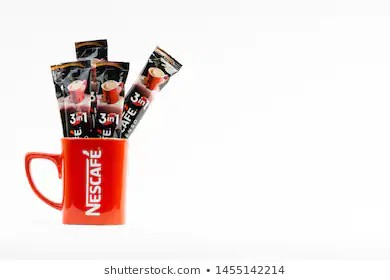nescafe-caffe: (118, 49, 187, 135), (53, 60, 93, 138), (91, 59, 129, 137)
nescafe-mug: (24, 136, 127, 225)
